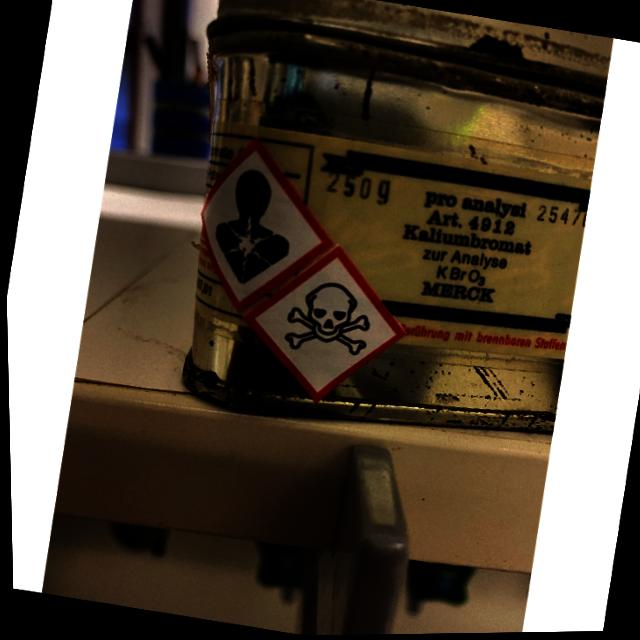acute toxicity: (279, 277, 375, 363)
serious health hazard: (206, 166, 301, 292)
